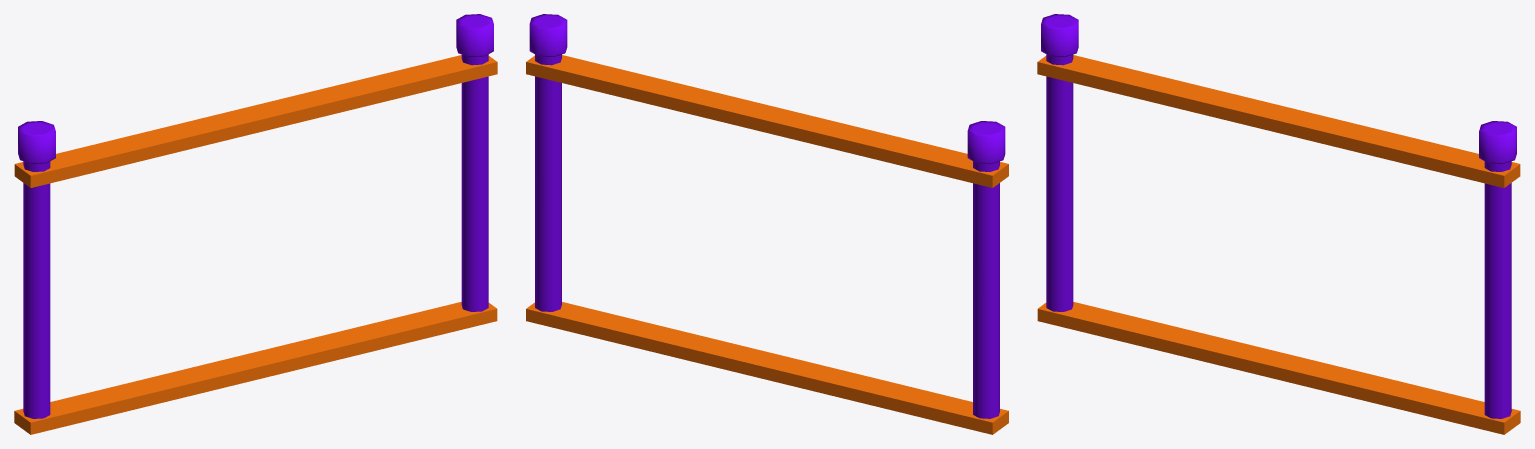
Rendered from Moving_Pole_Gate_01.fbx.
3 views of the same model, side by side, from view 1: azimuth 30°, elevation 25°; view 2: azimuth 150°, elevation 25°; view 3: azimuth 330°, elevation 25° (orthographic).
Visible parts, largest first — view 1: Obstacle_Moving_Pole_Gate_01; view 2: Obstacle_Moving_Pole_Gate_01; view 3: Obstacle_Moving_Pole_Gate_01.
Part boxes in pixels (left/top/right/bottom): Obstacle_Moving_Pole_Gate_01: left=14, top=14, right=497, bottom=434; Obstacle_Moving_Pole_Gate_01: left=526, top=14, right=1008, bottom=434; Obstacle_Moving_Pole_Gate_01: left=1037, top=14, right=1520, bottom=434.
Bounding box in the file's own units: 470 × 282 × 33.73.
Materials: 1 (1 with a texture image).
